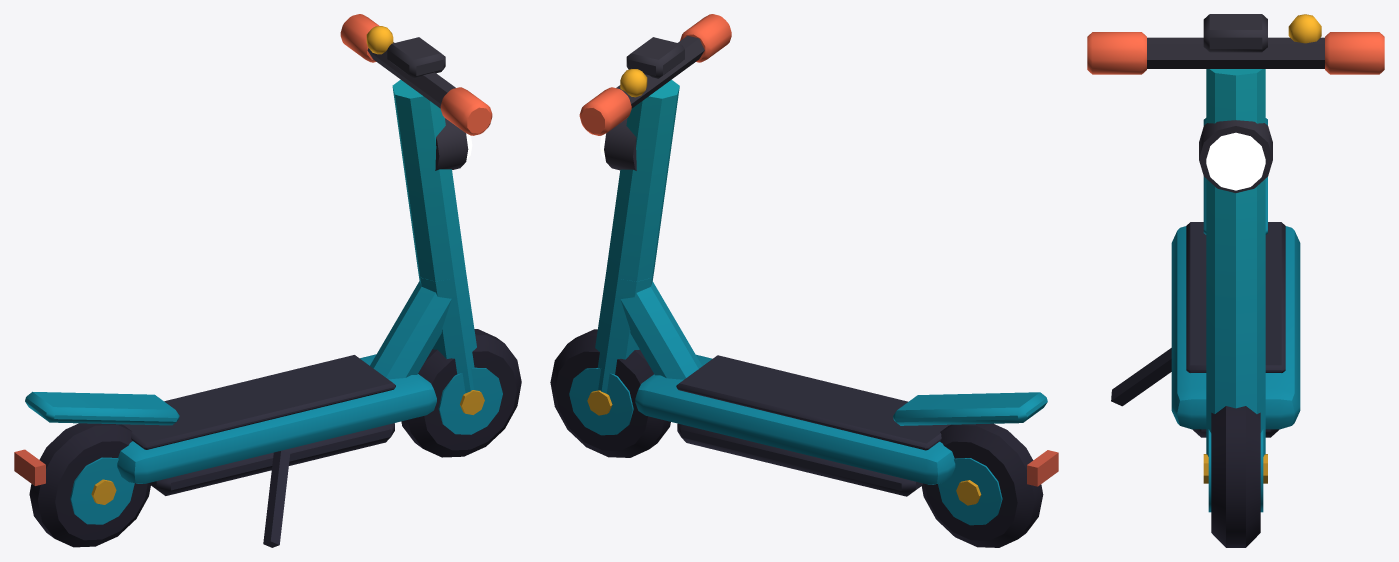
Rendered from hz_scooter.glb.
3 renders of one model, left to right at view 1: azimuth 30°, elevation 25°; view 2: azimuth 150°, elevation 25°; view 3: azimuth 270°, elevation 25°, orthographic. The views are drawn at different scales.
Parts seen in each view (by area): view 1: hz_scooter; view 2: hz_scooter; view 3: hz_scooter.
Part boxes in pixels (box(x1,y1,x2,y2)): hz_scooter: box(14, 14, 521, 547); hz_scooter: box(550, 14, 1058, 547); hz_scooter: box(1087, 14, 1384, 547).
Size of the model in its own units: 1.37 by 1.11 by 0.6.
